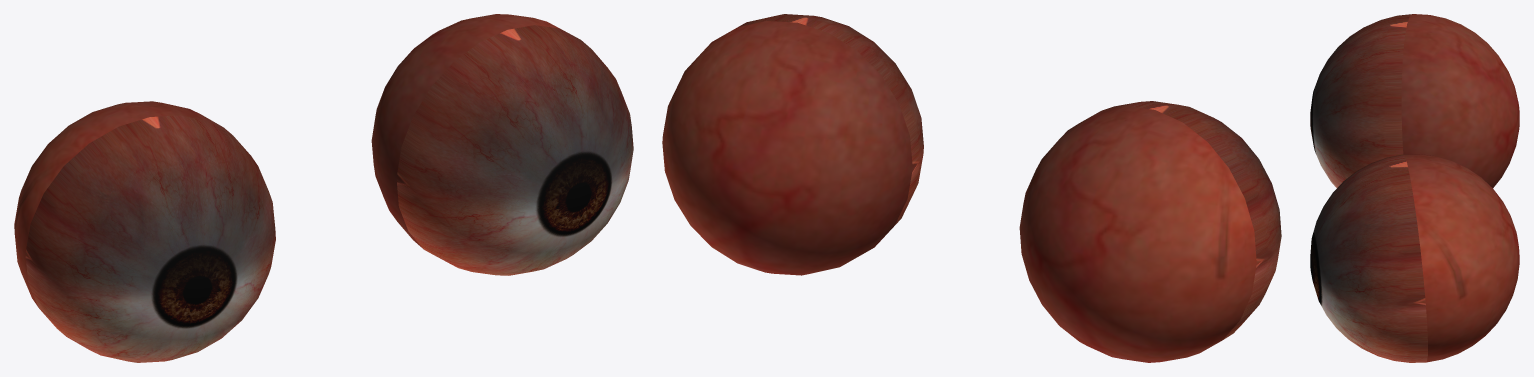
Rendered from Eyes_M.fbx.
The picture shows the model from 3 angles, left to right: view 1: azimuth 30°, elevation 25°; view 2: azimuth 150°, elevation 25°; view 3: azimuth 270°, elevation 25°; orthographic projection. The views are drawn at different scales.
Visible parts, largest first — view 1: l_eye1, r_eye1; view 2: r_eye1, l_eye1; view 3: l_eye1, r_eye1.
Boxes of the visible parts, box(x1,y1,x2,y2) form: l_eye1: box(371, 14, 633, 275); r_eye1: box(14, 101, 275, 362); r_eye1: box(1019, 101, 1281, 362); l_eye1: box(662, 14, 923, 275); l_eye1: box(1310, 154, 1519, 362); r_eye1: box(1310, 14, 1519, 188).
Bounding box in the file's own units: 9.12 × 3.54 × 3.54.
1 material, 1 textured.
